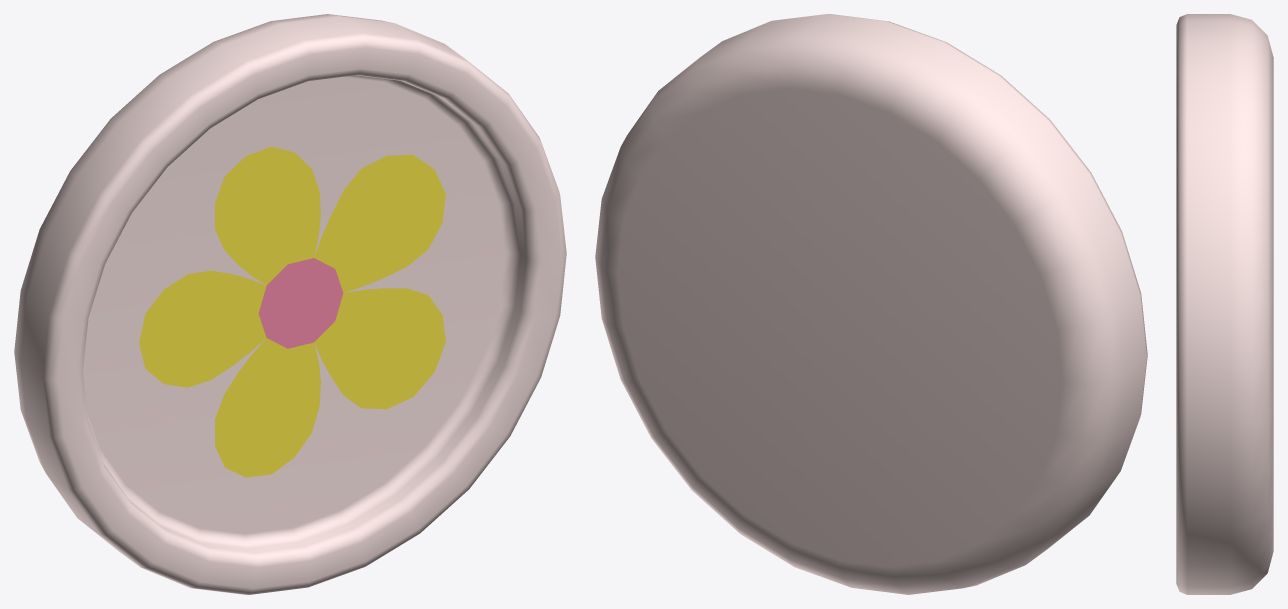
The model's file is City_12_Decor_Plate_1.glb.
3 renders of one model, left to right at view 1: azimuth 30°, elevation 25°; view 2: azimuth 150°, elevation 25°; view 3: azimuth 270°, elevation 25°, orthographic. The views are drawn at different scales.
Parts seen in each view (by area): view 1: City_12_Decor_Plate_1; view 2: City_12_Decor_Plate_1; view 3: City_12_Decor_Plate_1.
Part boxes in pixels (x1,y1,x2,y2): City_12_Decor_Plate_1: (14,14,566,594); City_12_Decor_Plate_1: (595,14,1147,594); City_12_Decor_Plate_1: (1176,14,1273,594).
Bounding box in the file's own units: 0.5139 × 0.5139 × 0.0859.
Materials: 1 (1 with a texture image).
